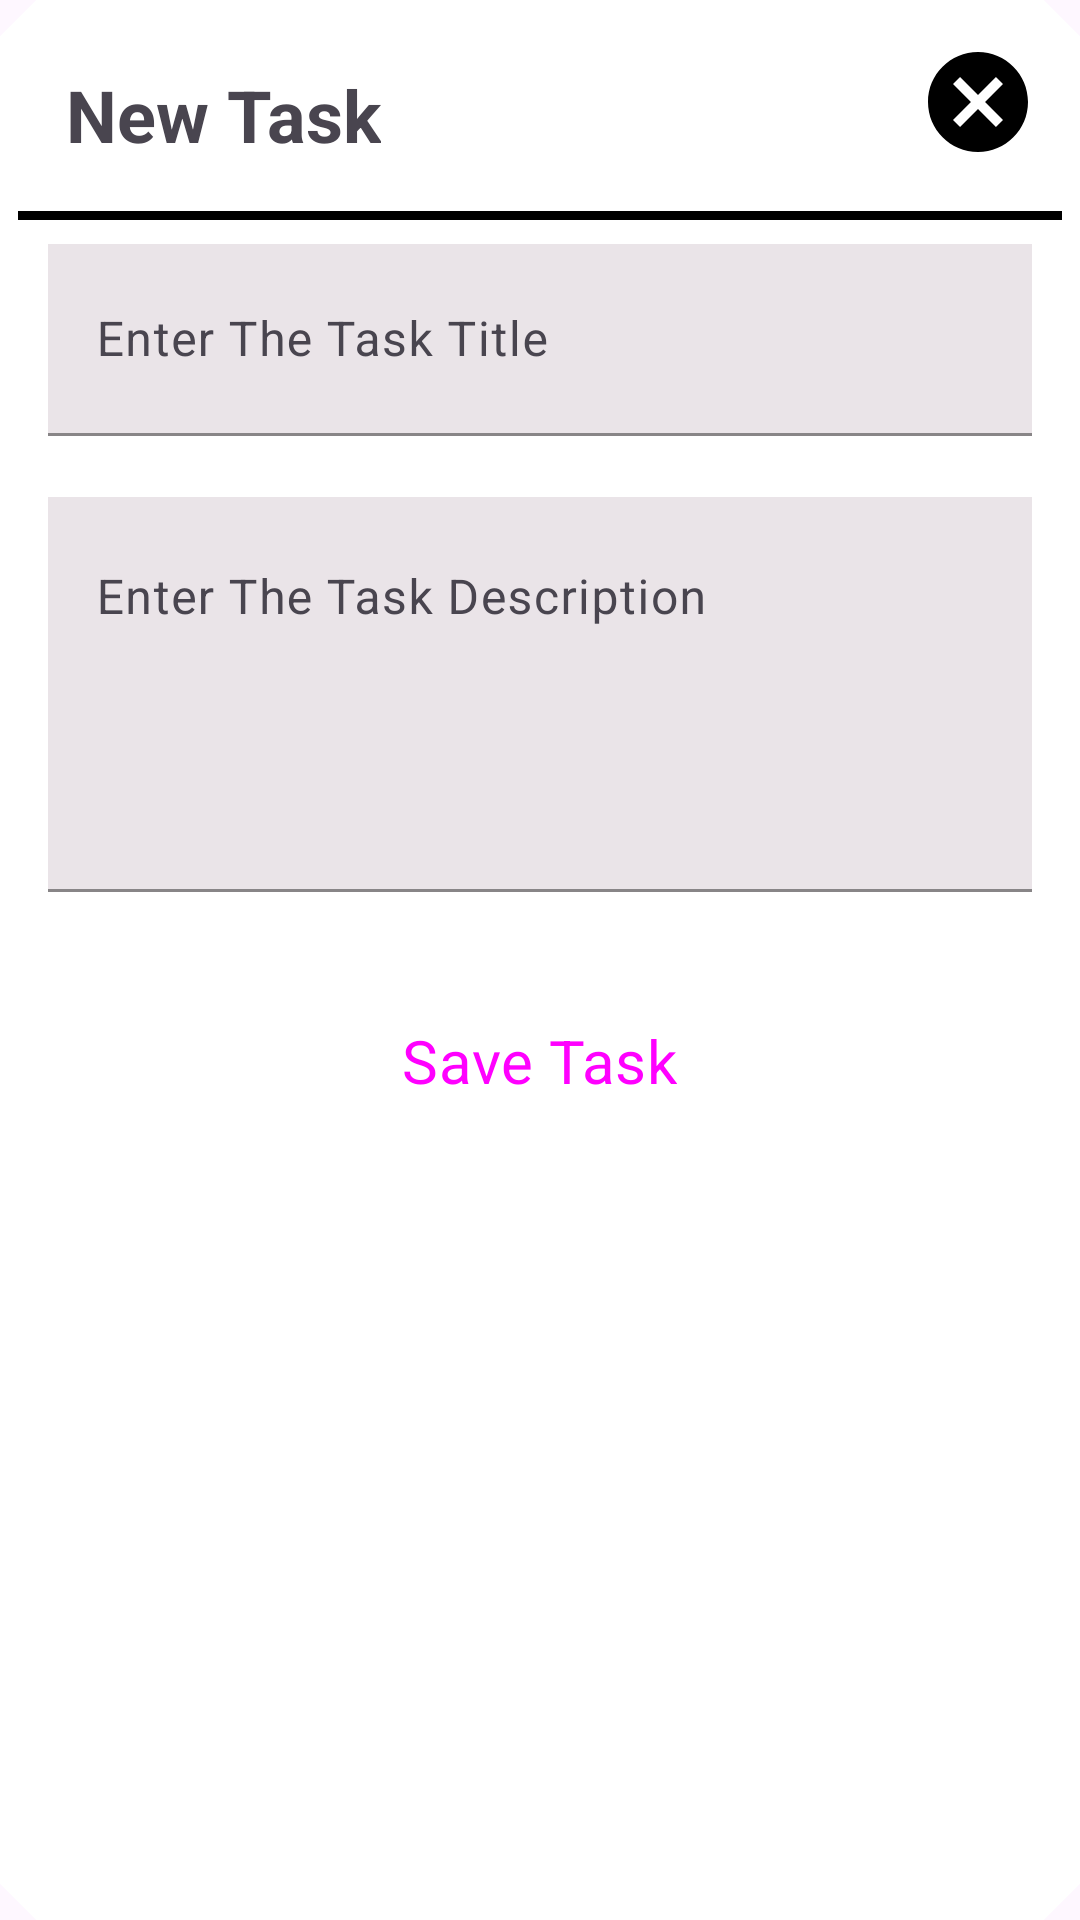

Locate icon controls on the screen. Image size 1080w x 1920h, boxes as (x1, y1, x2, y2).
close: (928, 52, 1028, 152)
